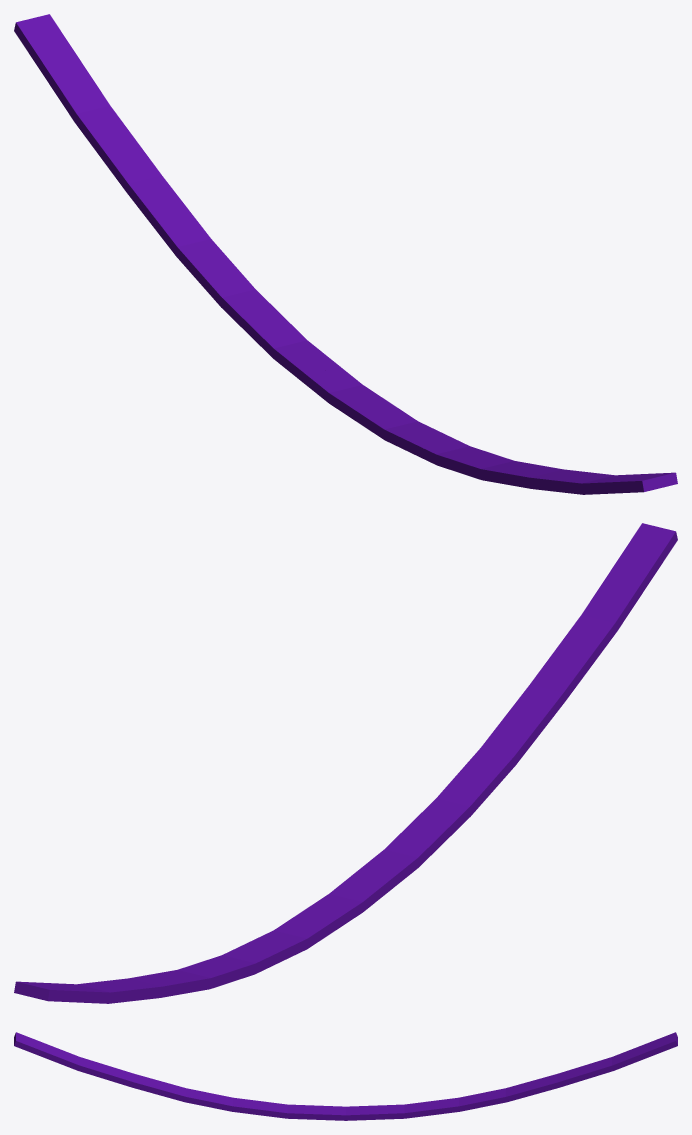
The model's file is Tape_7_chunks.fbx.
The picture shows the model from 3 angles, top to bottom: view 1: azimuth 30°, elevation 25°; view 2: azimuth 150°, elevation 25°; view 3: azimuth 270°, elevation 25°; orthographic projection. The views are drawn at different scales.
Visible parts, largest first — view 1: Tape_7_1, Tape_7_3, Tape_7_2; view 2: Tape_7_3, Tape_7_1, Tape_7_2; view 3: Tape_7_1, Tape_7_3, Tape_7_2.
Part boxes in pixels (box(x1,y1,x2,y2)): Tape_7_1: box(14, 14, 346, 373); Tape_7_3: box(422, 435, 677, 494); Tape_7_2: box(293, 368, 445, 465); Tape_7_3: box(412, 523, 677, 821); Tape_7_1: box(14, 904, 329, 1003); Tape_7_2: box(313, 816, 470, 935); Tape_7_1: box(363, 1032, 677, 1119); Tape_7_3: box(14, 1032, 257, 1112); Tape_7_2: box(243, 1099, 377, 1120).
Size of the model in its own units: 24.08 by 103 by 776.
